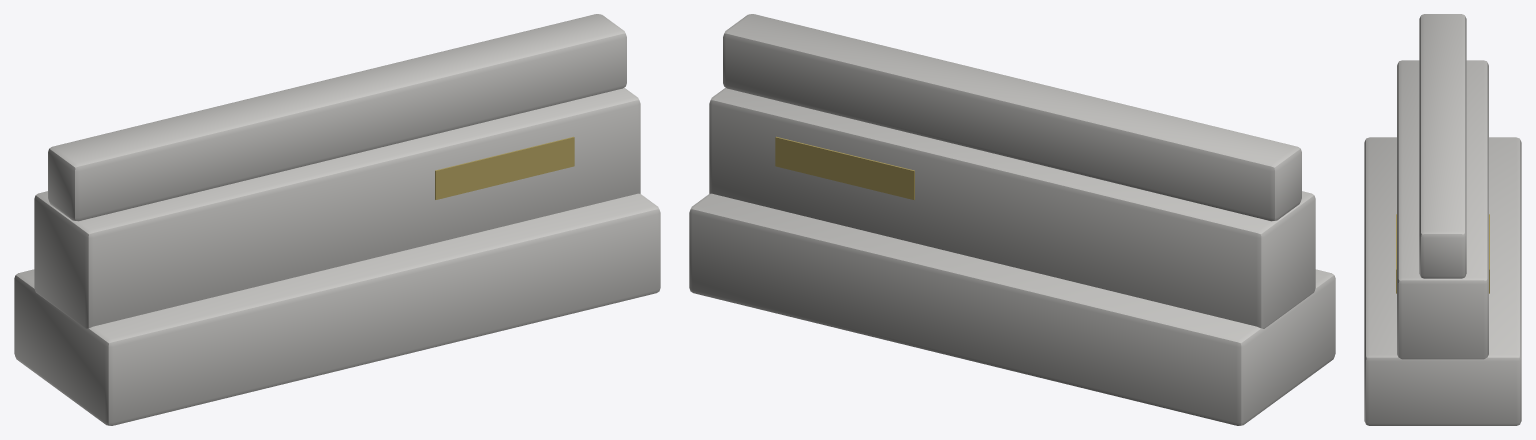
File: jersey_barrier.glb
The picture shows the model from 3 angles, left to right: view 1: azimuth 30°, elevation 25°; view 2: azimuth 150°, elevation 25°; view 3: azimuth 270°, elevation 25°; orthographic projection. The views are drawn at different scales.
Visible parts, largest first — view 1: jersey_barrier; view 2: jersey_barrier; view 3: jersey_barrier.
Boxes of the visible parts, bbox=[...] form: jersey_barrier: bbox=[14, 14, 660, 425]; jersey_barrier: bbox=[689, 14, 1335, 425]; jersey_barrier: bbox=[1364, 14, 1521, 425].
Size of what is drawn, in the model's own units: 2 by 0.82 by 0.6.
